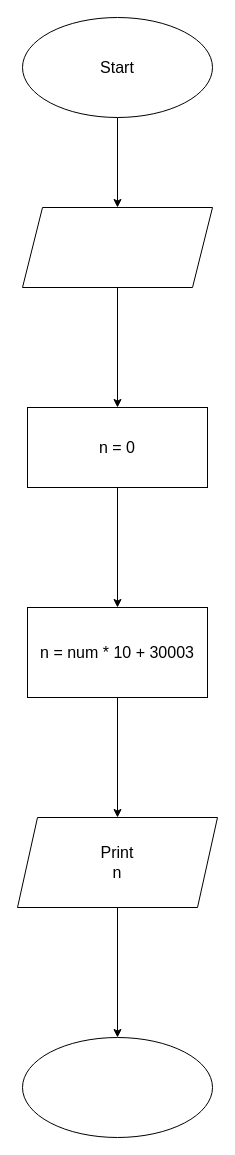
This 235x1155 diagram has some shape labels left out. The shapes that lost their labels are listed below. From the top down, each one's box as (x1, y1, x2, y2) in pixels, then its label:
(22, 206, 212, 288): Input num
(22, 1036, 212, 1138): End
